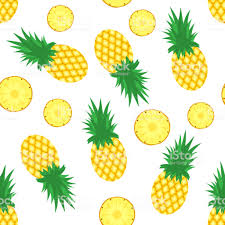Quince: (1, 52, 126, 178), (108, 74, 215, 181)
